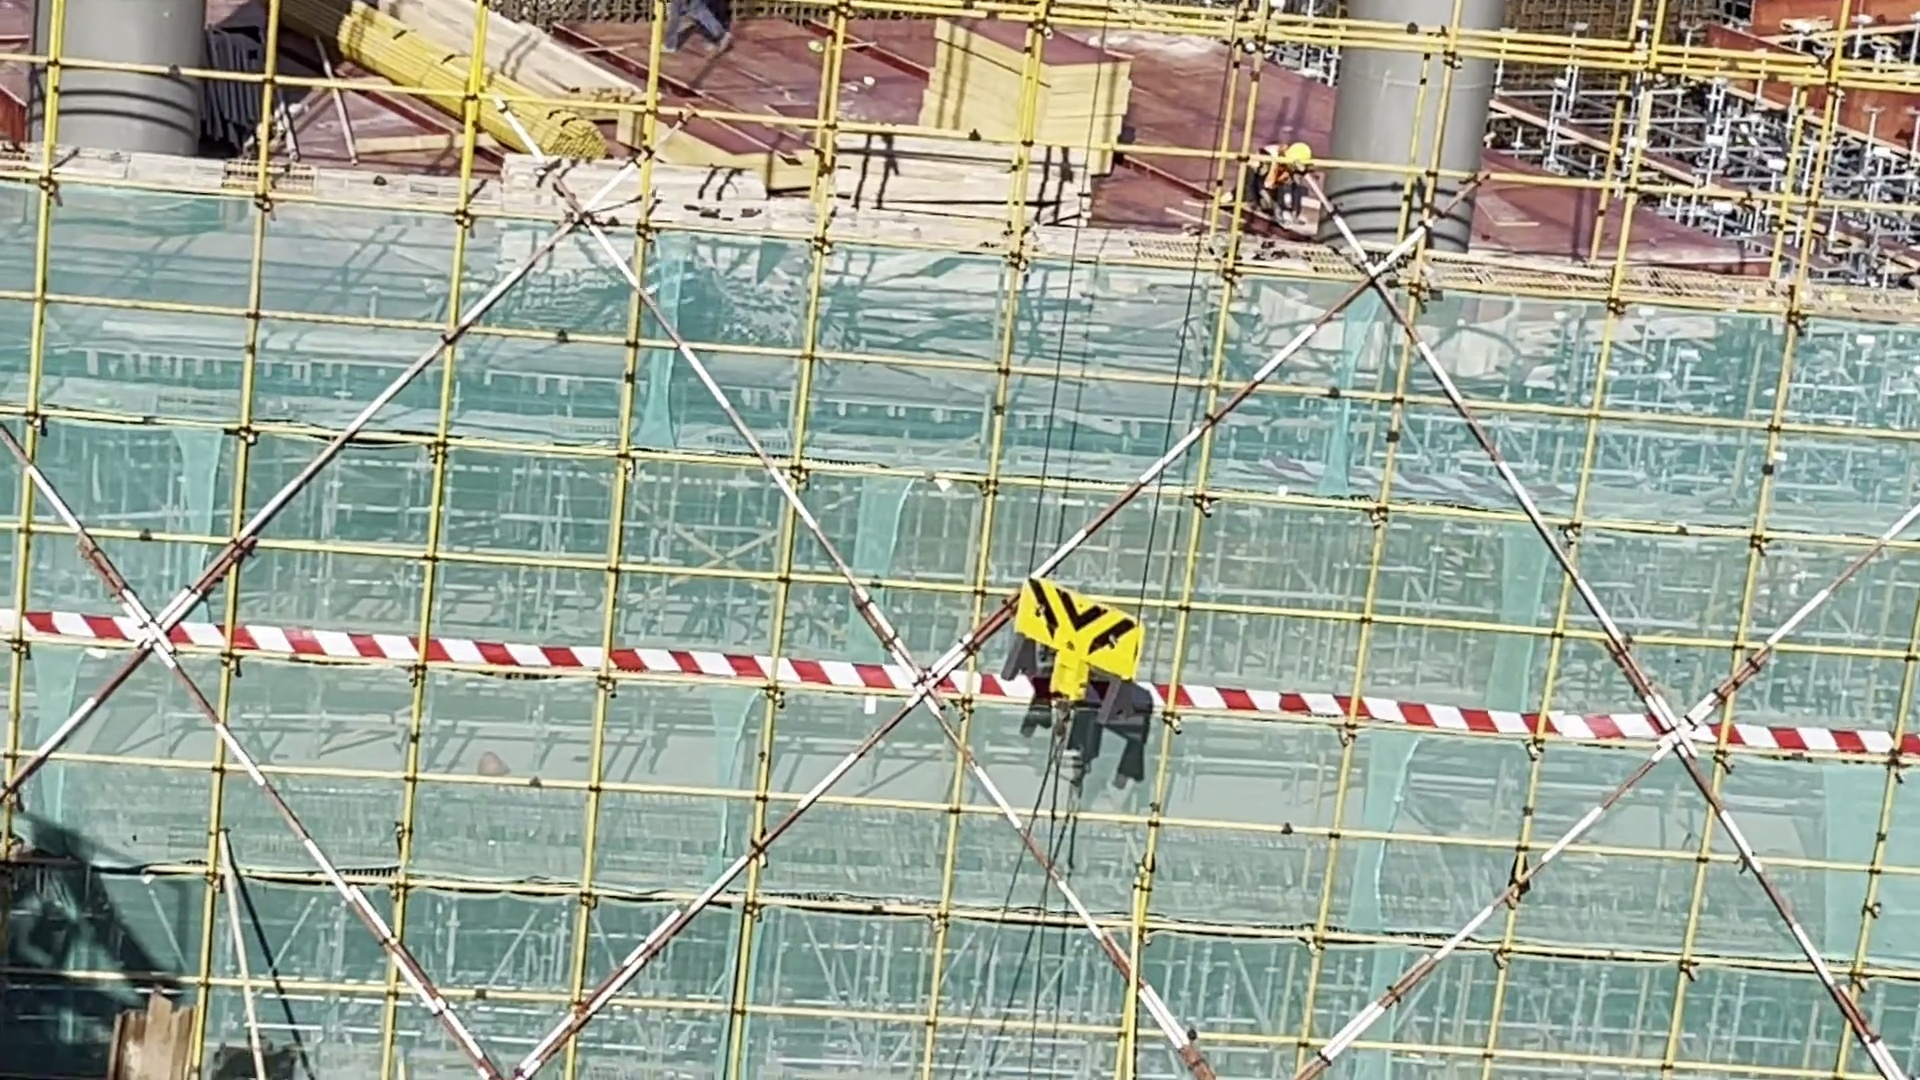board: (921, 19, 1144, 158)
hook: (1024, 589, 1132, 727)
person: (1235, 122, 1315, 219)
wood: (359, 7, 643, 173)
